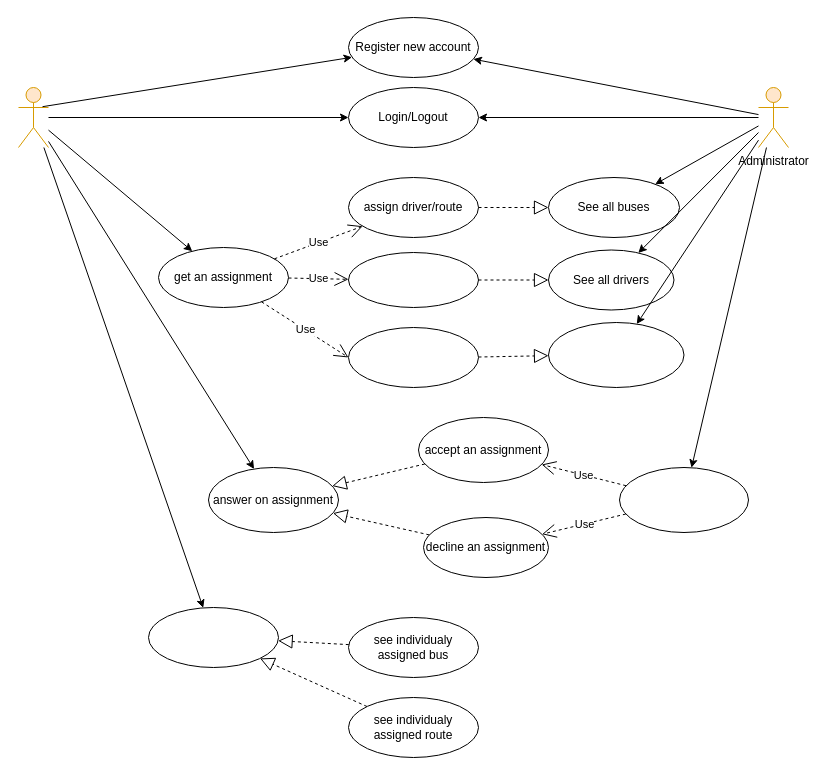
The diagram is 826 pixels wide and 775 high, and some of its shapes have lost their labels. Each missing label, with the centre of its shape:
assign bus/route: [413,280]
assign driver/bus: [413,357]
check status: [213,637]
Driver: [33,117]
get an answer: [683,499]
See all routes: [616,355]
